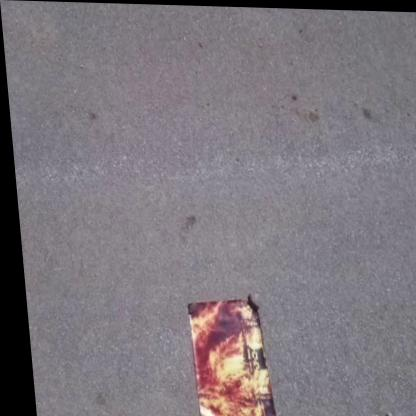fire-poster: (179, 290, 272, 416)
